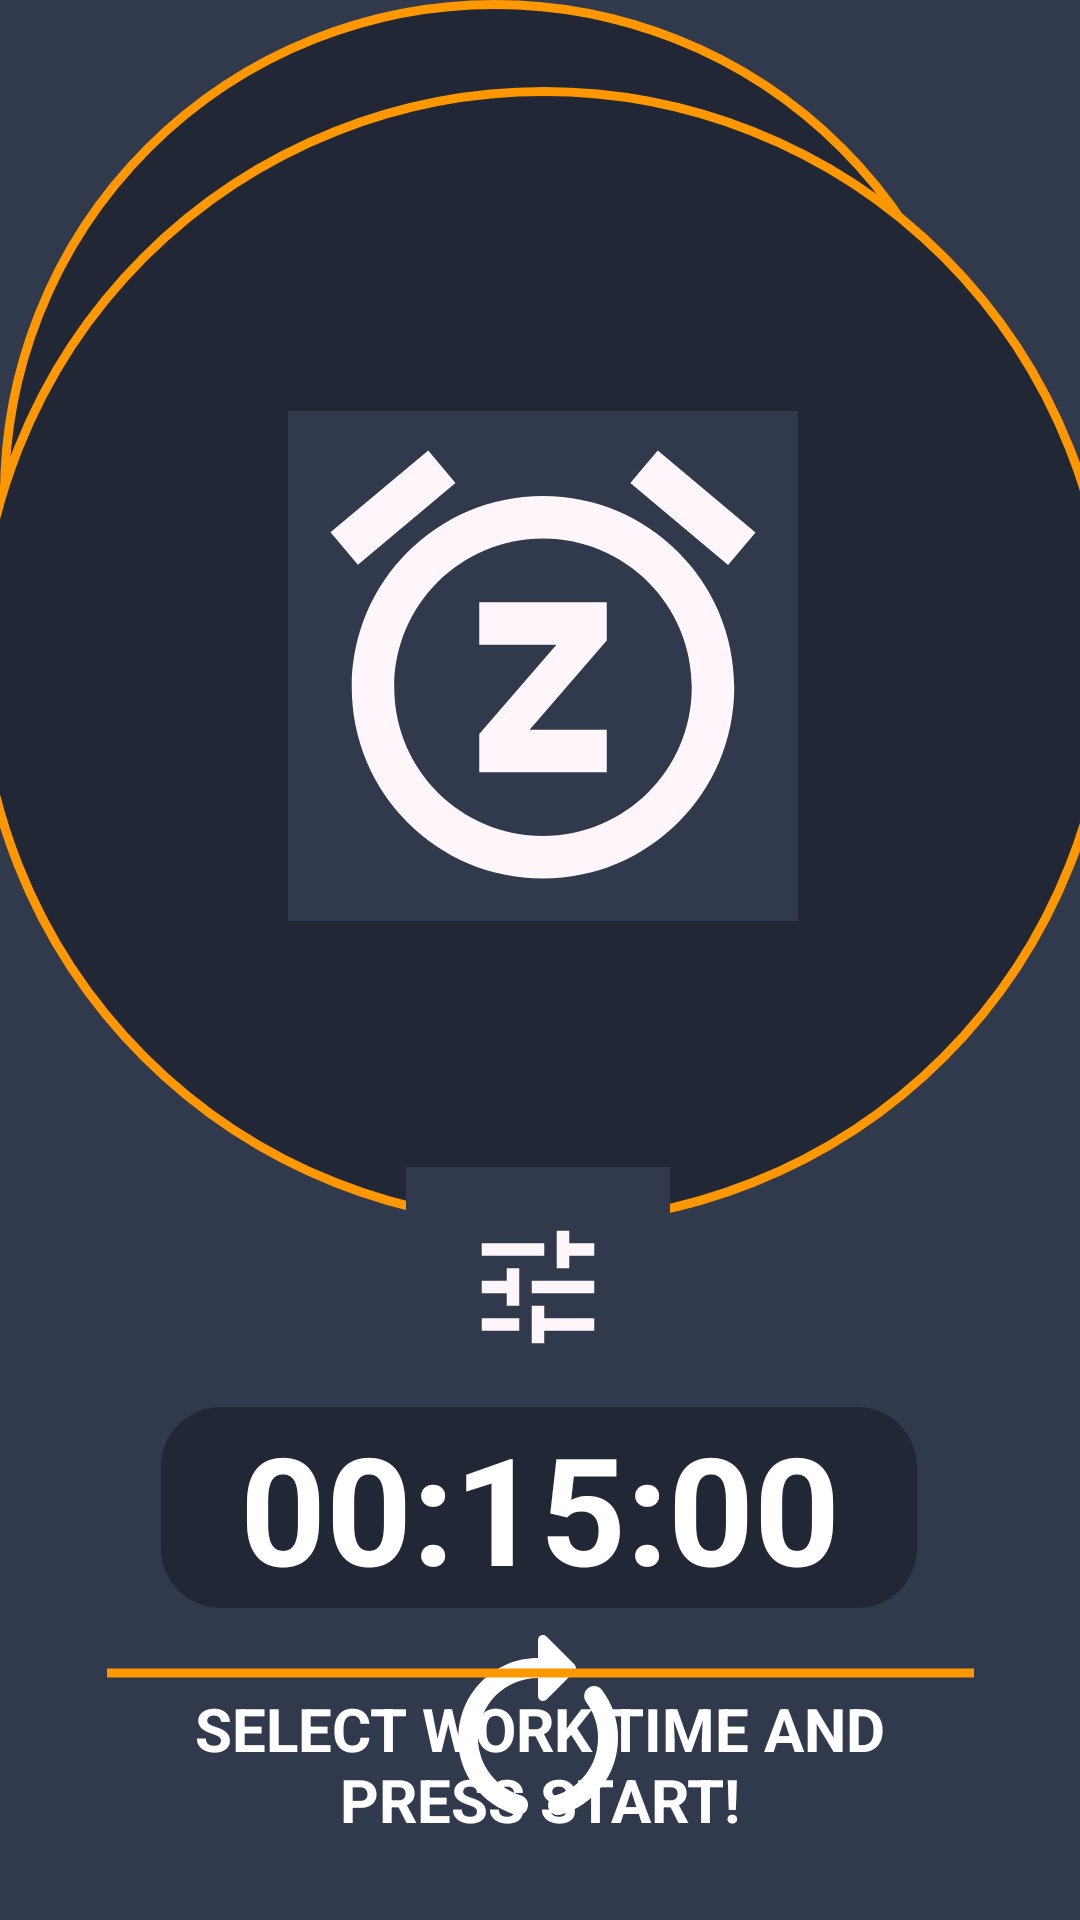

Icons on this 1080*1920 Android screen, each with the point to tap as point (x, y):
tune: point (538, 1287)
